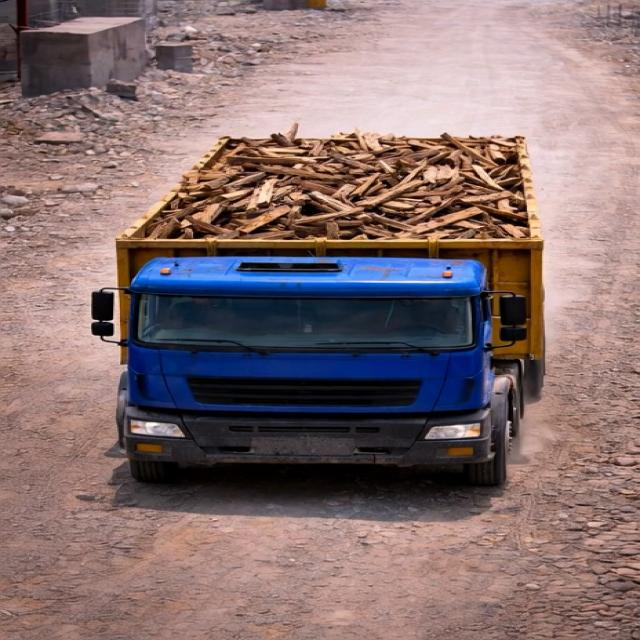Box: (112, 134, 552, 252)
Truck: (87, 118, 548, 493)
